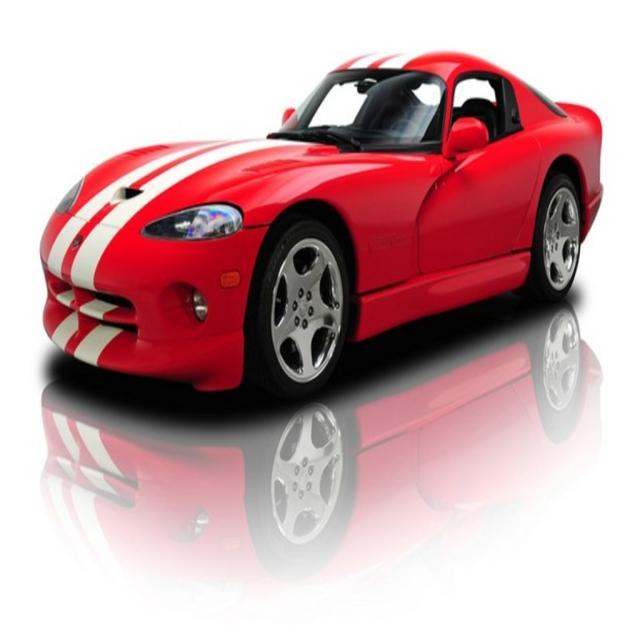car: (38, 35, 602, 408)
